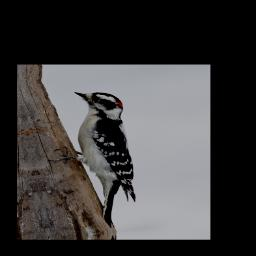Woodpecker: (34, 84, 150, 235)
